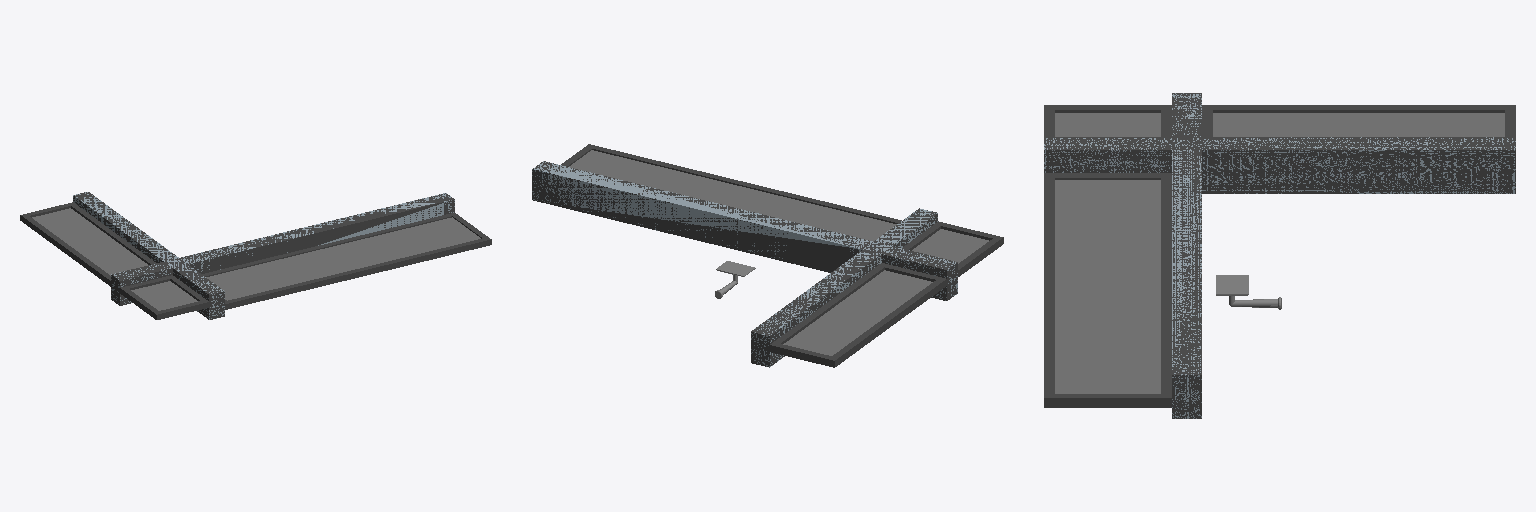
robot.urdf — right-push-door:
<robot name="right-push-door">
	<link name="base" />
	<link name="link_0">
		<visual name="out-frame">
			<origin xyz="0 0 0" />
			<geometry>
				<mesh filename="texture_dae/frame.dae" scale="0.5842804225272118 0.5842804225272118 0.5842804225272118" />
			</geometry>
		</visual>
		<collision>
			<origin xyz="0 0 0" />
			<geometry>
				<mesh filename="texture_dae/frame.dae" scale="0.5842804225272118 0.5842804225272118 0.5842804225272118" />
			</geometry>
		</collision>
	</link>
	<joint name="joint_0" type="fixed">
		<origin rpy="1.570796326794897 0 -1.570796326794897" xyz="0 0 0" />
		<child link="link_0" />
		<parent link="base" />
	</joint>
	<link name="link_1">
		<visual name="surf-board">
			<origin xyz="0.41584500126917034 -0.5285524590076831 0" />
			<geometry>
				<mesh filename="texture_dae/board.dae" scale="0.5842804225272118 0.5842804225272118 0.5842804225272118" />
			</geometry>
		</visual>
		<collision>
			<origin xyz="0.41584500126917034 -0.5285524590076831 0" />
			<geometry>
				<mesh filename="texture_dae/board.dae" scale="0.5842804225272118 0.5842804225272118 0.5842804225272118" />
			</geometry>
		</collision>
	</link>
	<joint name="joint_1" type="revolute">
		<origin xyz="-0.41584500126917034 0.5285524590076831 0" />
		<axis xyz="0 -1 0" />
		<child link="link_1" />
		<parent link="link_0" />
		<limit lower="-1.5079644737231006" upper="-0.0" />
	</joint>
	<link name="link_2">
		<visual name="handle">
			<origin xyz="0 0 0" />
			<geometry>
				<mesh filename="texture_dae/9960017-handle-right.dae" scale="1.3816250201590838 1.3816250201590838 1.3816250201590838" />
			</geometry>
		</visual>
		<collision>
			<origin xyz="0 0 0" />
			<geometry>
				<mesh filename="texture_dae/9960017-handle-right.dae" scale="1.3816250201590838 1.3816250201590838 1.3816250201590838" />
			</geometry>
		</collision>
	</link>
	<joint name="joint_2" type="revolute">
		<origin xyz="0 0 0" />
		<child link="link_2" />
		<parent link="link_3" />
		<axis xyz="0 0 1" />
		<limit lower="0" upper="0" />
	</joint>
	<link name="link_3">
		<visual name="lock">
			<origin xyz="0 0 0" />
			<geometry>
				<mesh filename="texture_dae/9960017-lock-right.dae" scale="1.3816250201590838 1.3816250201590838 1.3816250201590838" />
			</geometry>
		</visual>
		<collision>
			<origin xyz="0 0 0" />
			<geometry>
				<mesh filename="texture_dae/9960017-lock-right.dae" scale="1.3816250201590838 1.3816250201590838 1.3816250201590838" />
			</geometry>
		</collision>
	</link>
	<joint name="joint_3" type="fixed">
		<origin xyz="0.7556548389621719 -0.619801369463197 0.028906386734450045" />
		<child link="link_3" />
		<parent link="link_1" />
	</joint>
</robot>

--- What the picture shows (computed from the rendered views, not written in the file) ---
Views: 3 orthographic renders of the robot side by side, from view 1: azimuth 30°, elevation 25°; view 2: azimuth 150°, elevation 25°; view 3: azimuth 270°, elevation 25°.
Robot: right-push-door — 5 links, 4 joints (2 revolute, 2 fixed); root link base; default pose: every joint at zero.
Links seen in each view (by area): view 1: link_0; view 2: link_0; view 3: link_0, link_3.
Link boxes in pixels (x1=…): link_0: x1=20, y1=192, x2=491, y2=319; link_0: x1=532, y1=144, x2=1003, y2=367; link_0: x1=1044, y1=93, x2=1515, y2=418; link_3: x1=1216, y1=275, x2=1248, y2=295.
Bounding box of the posed robot: 1.78 × 1.26 × 0.2353 m (x, y, z).
Meshes: 4 distinct files referenced, 3 mesh visuals loaded (3 Collada DAE); not drawn: 1 (reference not matched to a file when rendering).
